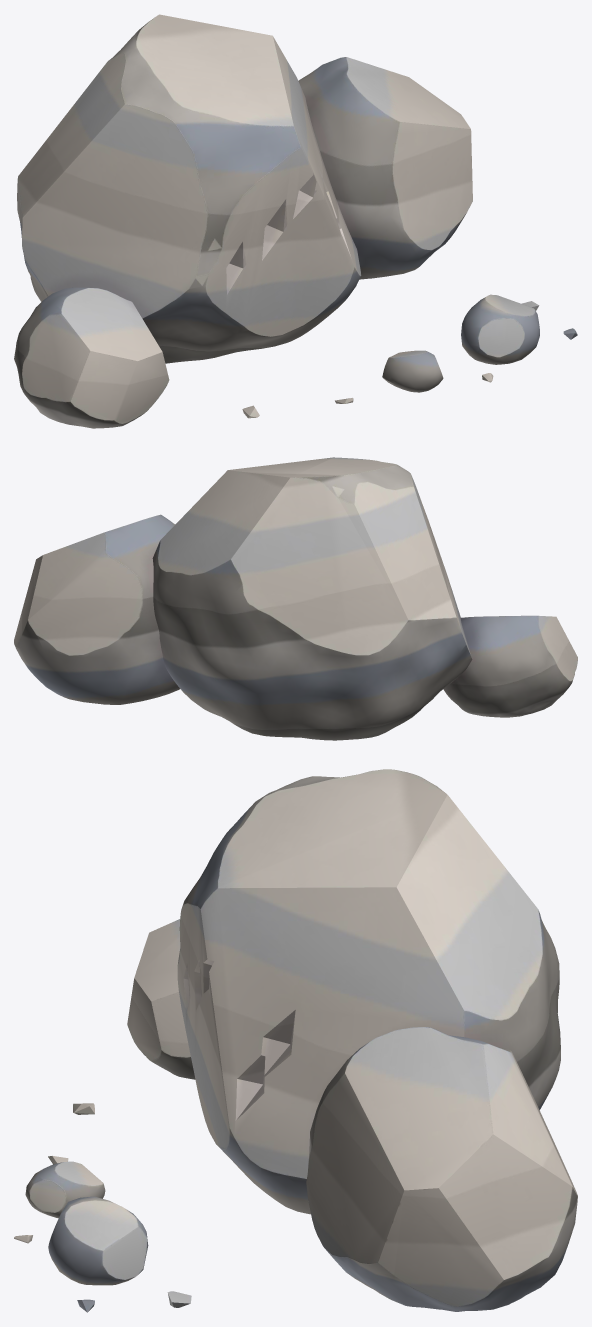
The model's file is mining-node-stone.glb.
3 renders of one model, top to bottom at view 1: azimuth 30°, elevation 25°; view 2: azimuth 150°, elevation 25°; view 3: azimuth 270°, elevation 25°, orthographic. The views are drawn at different scales.
Visible parts, largest first — view 1: mining-node-stone_body; view 2: mining-node-stone_body; view 3: mining-node-stone_body.
Boxes of the visible parts, x1,y1,x2,y2 form: mining-node-stone_body: (14, 14, 577, 428); mining-node-stone_body: (14, 457, 577, 740); mining-node-stone_body: (14, 769, 577, 1312).
Bounding box in the file's own units: 1.26 × 0.6443 × 0.9359.
Materials: 1 (1 with a texture image).
